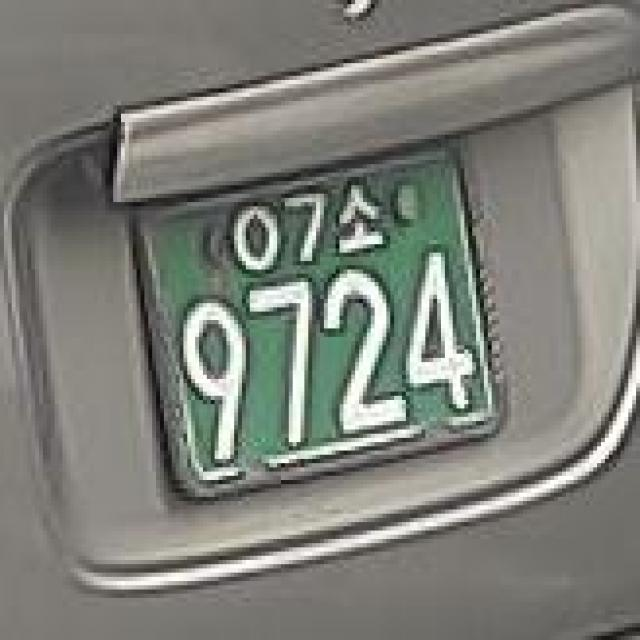illegal_plate: (126, 133, 503, 520)
